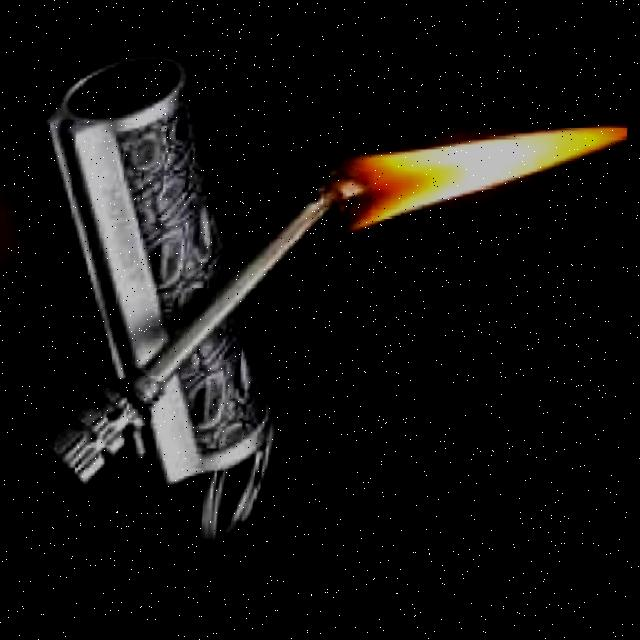Fire: (328, 115, 631, 232)
